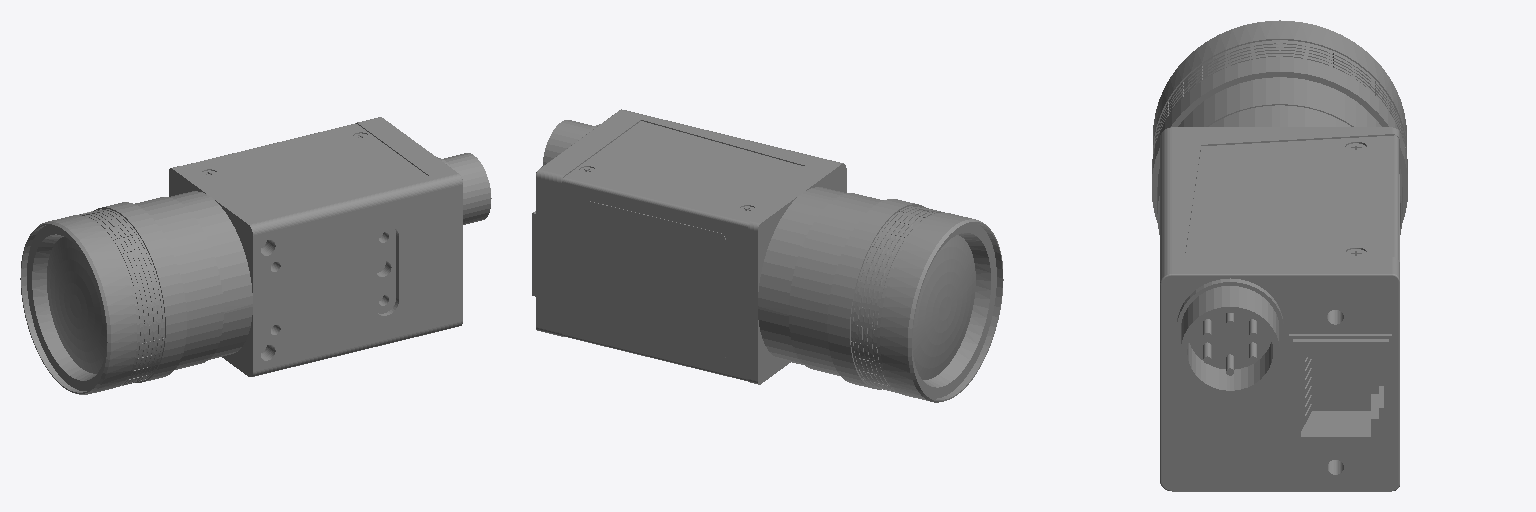
The robot description file, URDF, robot "basler_camera":
<?xml version="1.0"?>
<robot name="basler_camera">

  <!-- Single link representing the camera -->
  <link name="camera">
    
    <!-- Visual representation -->
    <visual>
      <origin xyz="0 0 0" rpy="0 0 0"/>
      <geometry>
        <mesh filename="package://ACE2/meshes/Basler_ace2_GigE.stl" scale="0.001 0.001 0.001"/>
      </geometry>
      <material name="gray">
        <color rgba="0.6 0.6 0.6 1.0"/>
      </material>
    </visual>

    <!-- Collision geometry (same as visual) -->
    <collision>
      <origin xyz="0 0 0" rpy="0 0 0"/>
      <geometry>
        <mesh filename="package://ACE2/meshes/Basler_ace2_GigE.stl" scale="0.001 0.001 0.001"/>
      </geometry>
    </collision>

    <!-- Basic inertial properties (approximate placeholder) -->
    <inertial>
      <origin xyz="0 0 0" rpy="0 0 0"/>
      <mass value="0.2"/>
      <inertia ixx="0.0001" iyy="0.0001" izz="0.0001" ixy="0.0" ixz="0.0" iyz="0.0"/>
    </inertial>

  </link>

</robot>

--- What the picture shows (computed from the rendered views, not written in the file) ---
3 views of the same robot in one strip: view 1: azimuth 30°, elevation 25°; view 2: azimuth 150°, elevation 25°; view 3: azimuth 270°, elevation 25° (orthographic).
Robot: basler_camera — 1 links, 0 joints (none); root link camera; default pose: every joint at zero.
Links seen in each view (by area): view 1: camera; view 2: camera; view 3: camera.
Link boxes in pixels (bbox=[...]): camera: bbox=[20, 117, 491, 394]; camera: bbox=[532, 109, 1003, 402]; camera: bbox=[1152, 20, 1407, 491].
Size in the robot's own frame: 0.0783 by 0.031 by 0.031 metres.
Meshes: 1 distinct files referenced, 1 mesh visuals loaded (1 binary STL).